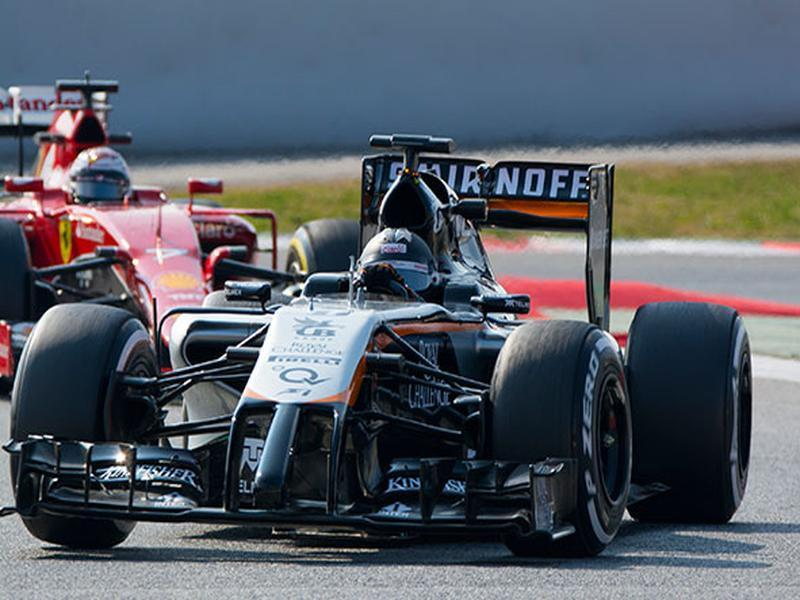f1: (18, 190, 774, 547), (2, 76, 284, 415)
